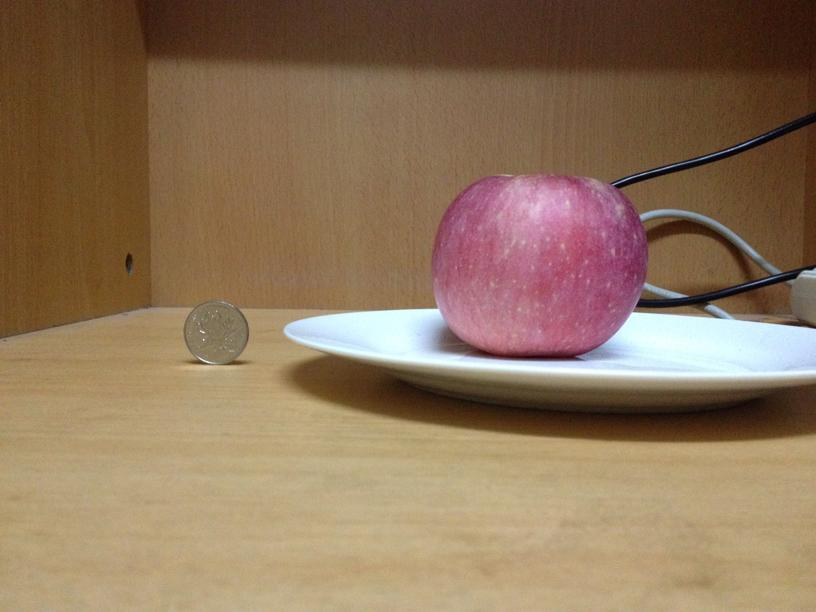apple: (427, 168, 647, 356)
coin: (179, 299, 250, 365)
